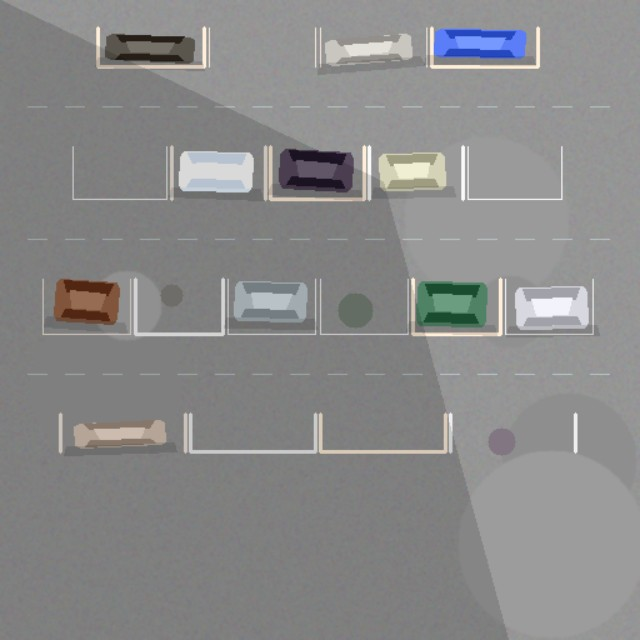space-empty: (72, 146, 166, 199), (468, 146, 561, 199), (135, 279, 223, 334), (320, 279, 407, 334), (190, 414, 315, 451), (320, 414, 445, 451), (450, 414, 575, 451), (209, 27, 315, 66)
space-occupied: (171, 146, 265, 199), (270, 146, 364, 199), (369, 146, 462, 199), (227, 279, 315, 334), (505, 279, 593, 334), (43, 279, 130, 334), (413, 279, 500, 334), (60, 414, 185, 451), (431, 27, 538, 66), (98, 27, 204, 66), (320, 27, 426, 66)
